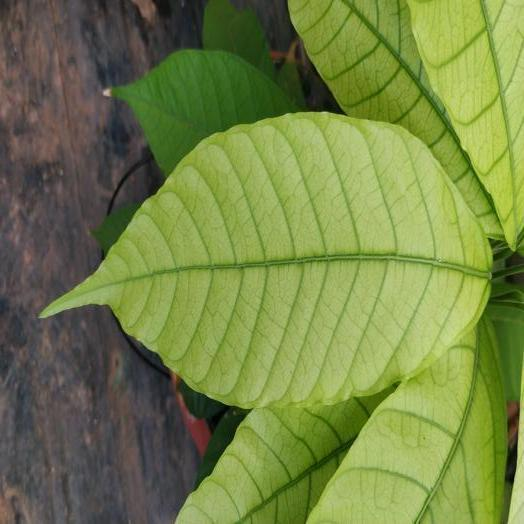Healthy Leaf: (111, 49, 297, 176)
Iron: (42, 113, 491, 407), (289, 0, 499, 236), (308, 320, 503, 523), (407, 0, 523, 248), (176, 389, 390, 523)
